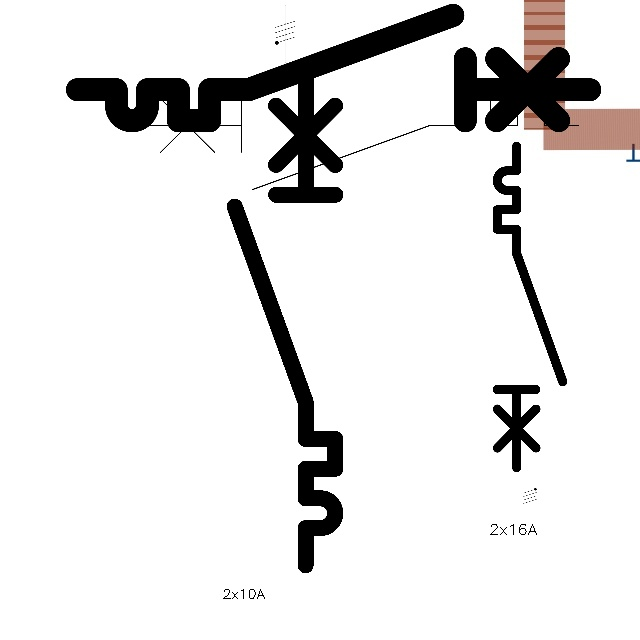interruptor_termomagnetico: (64, 2, 603, 134), (222, 63, 348, 578), (122, 87, 590, 201), (489, 138, 571, 475)
